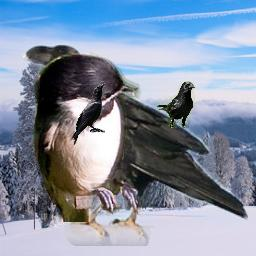Crow: (23, 41, 248, 246), (71, 83, 105, 145), (157, 81, 195, 128)
Swallow: (30, 49, 146, 222)
